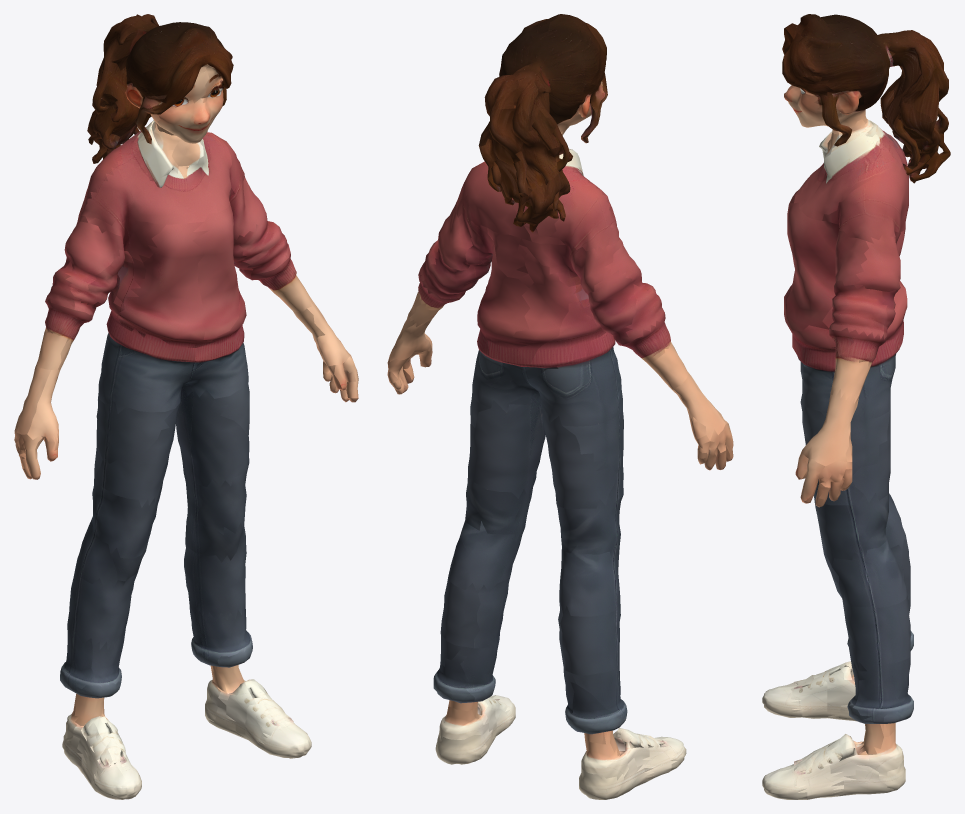
The model's file is teen-girl.glb.
The picture shows the model from 3 angles, left to right: view 1: azimuth 30°, elevation 25°; view 2: azimuth 150°, elevation 25°; view 3: azimuth 270°, elevation 25°; orthographic projection.
Size of the model in its own units: 0.9041 by 1.91 by 0.4423.
1 material, 1 textured.
